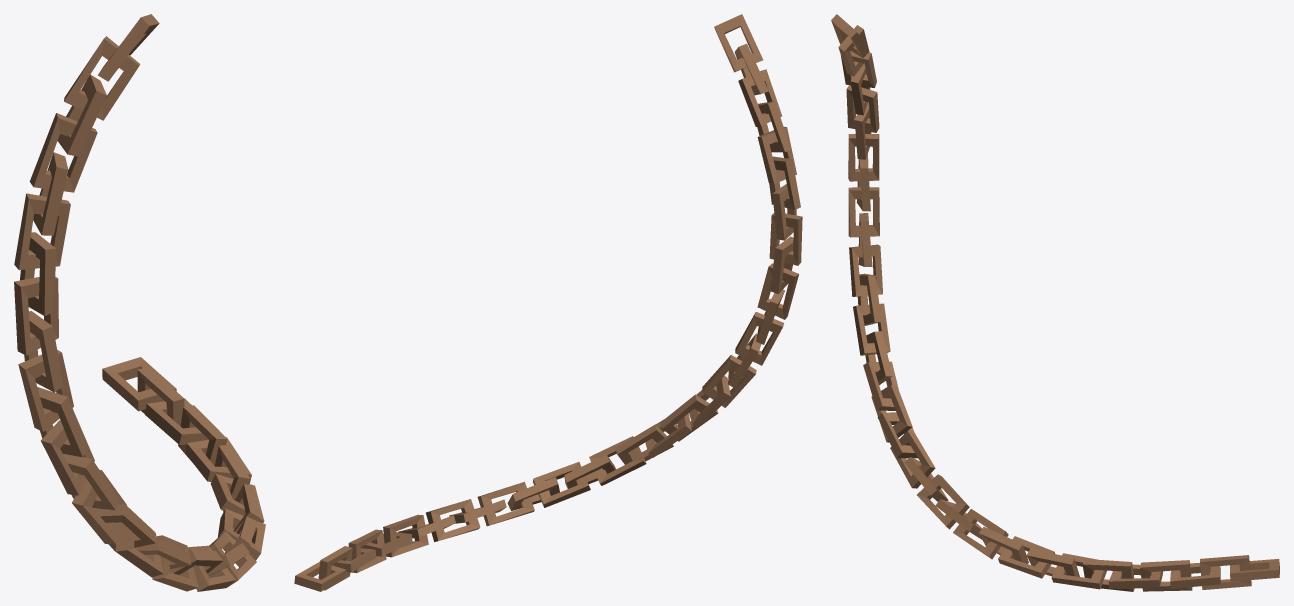
The model's file is Chain_01_Bend_03.fbx.
The picture shows the model from 3 angles, left to right: view 1: azimuth 30°, elevation 25°; view 2: azimuth 150°, elevation 25°; view 3: azimuth 270°, elevation 25°; orthographic projection. The views are drawn at different scales.
Parts seen in each view (by area): view 1: Chain_01_Bend_03; view 2: Chain_01_Bend_03; view 3: Chain_01_Bend_03.
Boxes of the visible parts, x1=… form: Chain_01_Bend_03: x1=14, y1=14, x2=265, y2=591; Chain_01_Bend_03: x1=294, y1=14, x2=802, y2=591; Chain_01_Bend_03: x1=831, y1=14, x2=1279, y2=591.
Bounding box in the file's own units: 201 × 315 × 267.
